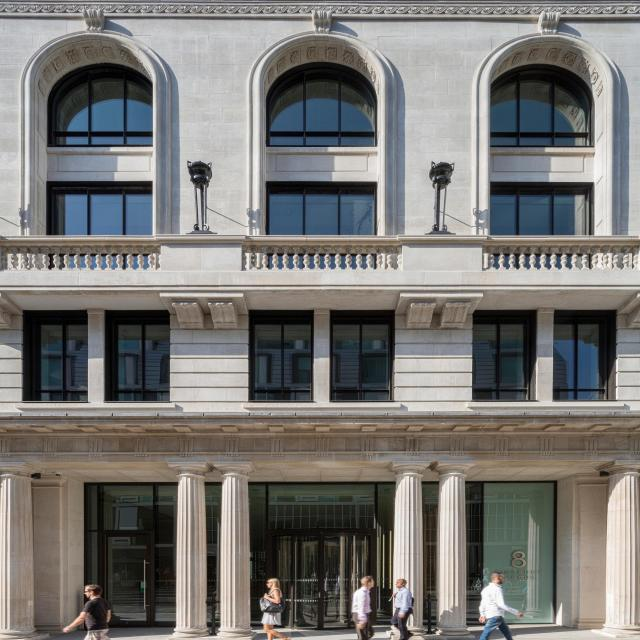door: (278, 528, 377, 630), (101, 528, 156, 628)
railing: (483, 240, 640, 269), (245, 241, 406, 269), (0, 241, 161, 269)
window: (250, 482, 394, 633), (87, 483, 181, 627), (466, 483, 554, 625), (44, 63, 152, 145), (266, 67, 370, 146), (491, 72, 590, 149), (102, 310, 170, 400), (24, 309, 88, 403), (267, 186, 382, 238), (469, 310, 535, 400), (333, 310, 395, 404), (248, 313, 313, 402), (42, 186, 151, 238), (551, 315, 610, 401), (492, 192, 592, 235)
